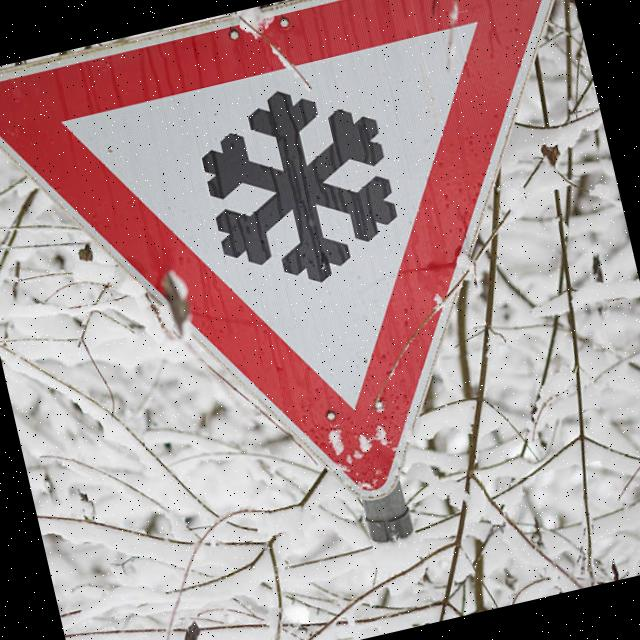snow_warning: (0, 0, 640, 577)
